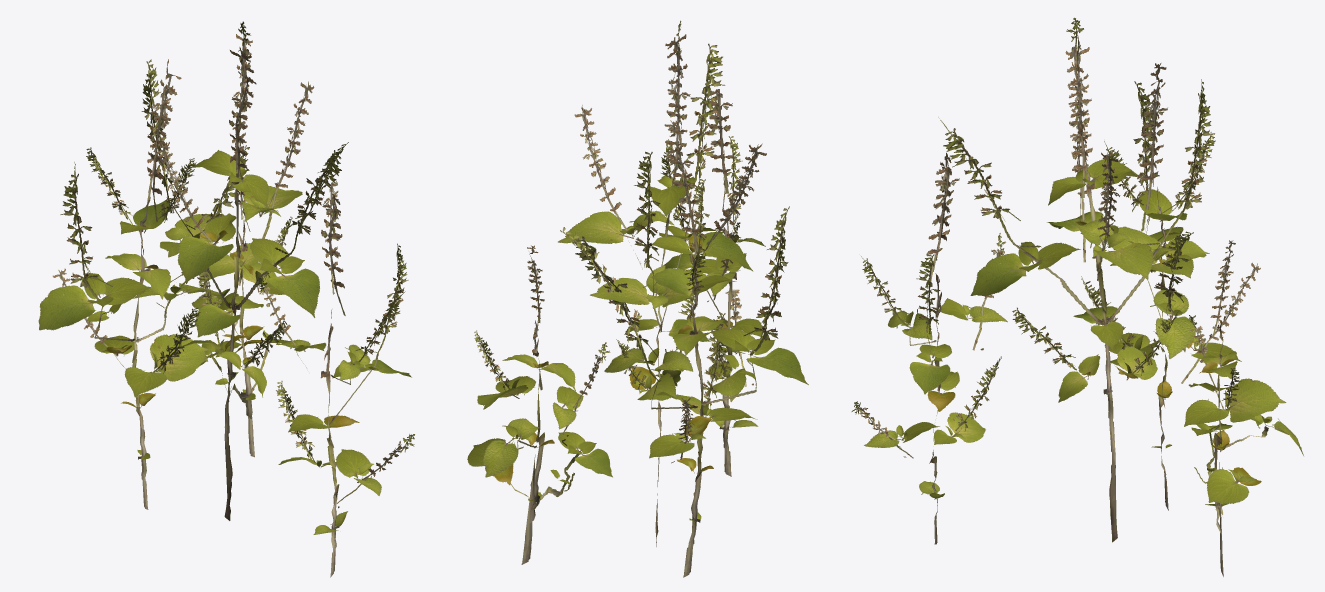
File: shrub_b.glb
3 views of the same model, side by side, from view 1: azimuth 30°, elevation 25°; view 2: azimuth 150°, elevation 25°; view 3: azimuth 270°, elevation 25° (orthographic).
Visible parts, largest first — view 1: shrub_b; view 2: shrub_b; view 3: shrub_b.
Part boxes in pixels (x1,y1,x2,y2): shrub_b: [38, 21, 414, 577]; shrub_b: [467, 20, 808, 577]; shrub_b: [851, 17, 1303, 576].
Bounding box in the file's own units: 0.2613 × 0.408 × 0.3218.
1 material, 1 textured.
